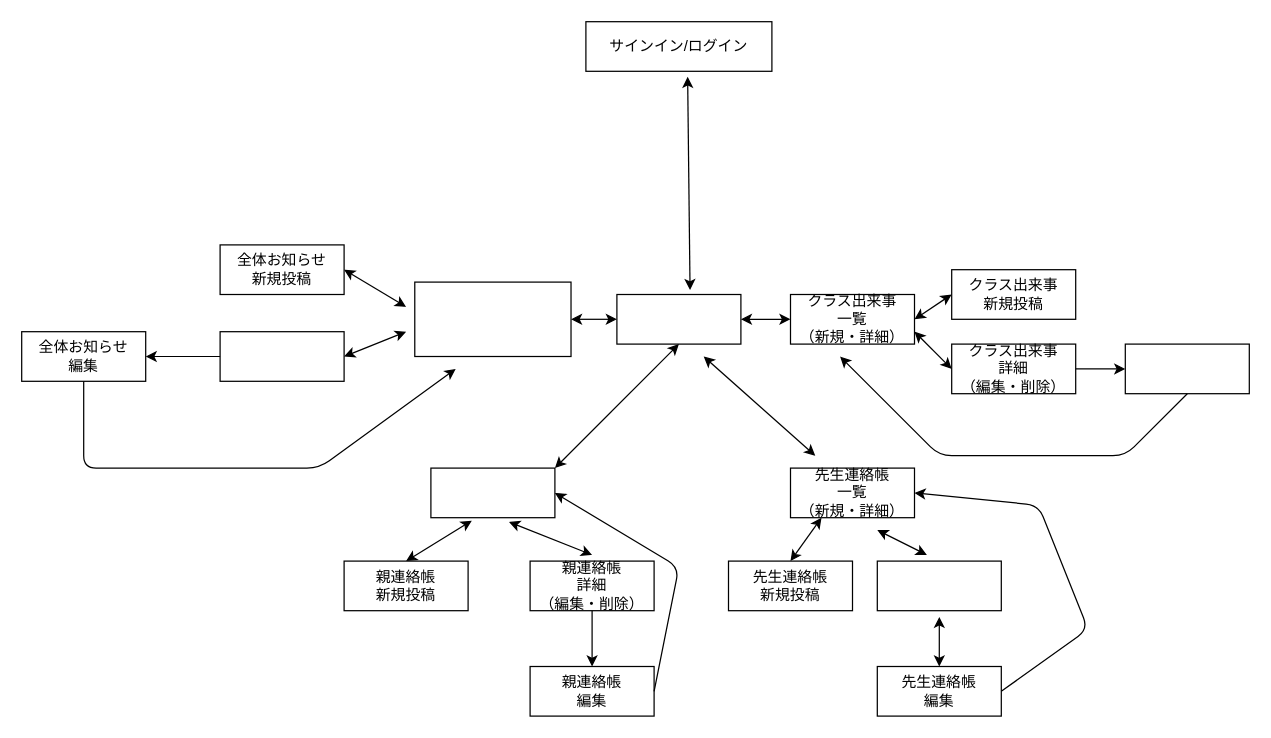
Some shapes in this 1271 by 738 pixel diagram are drawn without their labels. The shapes that lost their labels are listed below. From the top down, each one's centre as x and y in pixels, then its label:
At [492,318]: "全体のお知らせ 一覧 （新規投稿・詳細）".
At [678,318]: "クラス名簿".
At [281,355]: "全体お知らせ 詳細 （編集・削除）".
At [1186,368]: "クラス出来事 編集".
At [492,492]: "親連絡帳 一覧 （新規・詳細）".
At [938,585]: "先生連絡帳 詳細 （編集・削除）".
